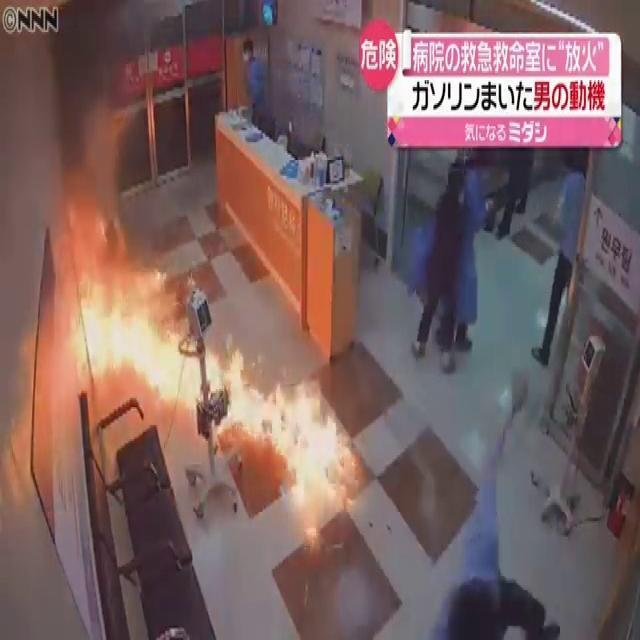Fire: (209, 344, 354, 526), (54, 266, 214, 410)
Smoke: (42, 1, 150, 252)
